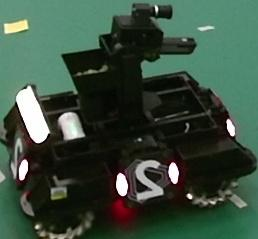armor_2: (116, 162, 180, 197)
light: (17, 85, 50, 145)
right_2: (127, 159, 170, 201)
